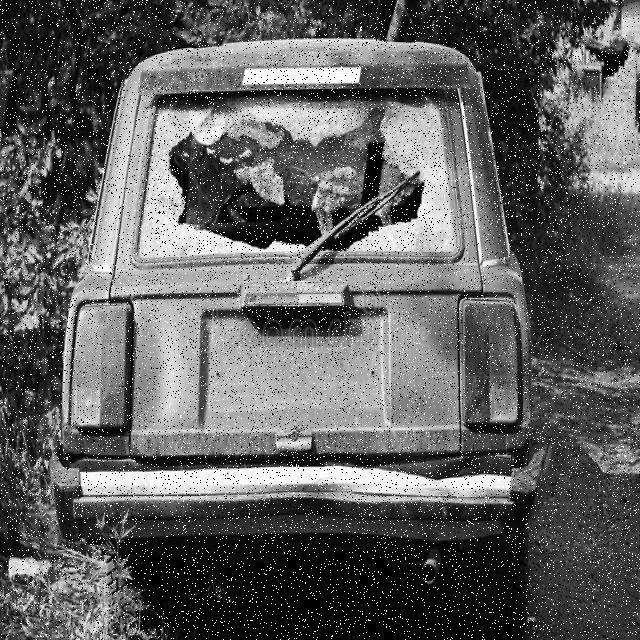Rear-windscreen-Damage: (103, 68, 495, 325)
